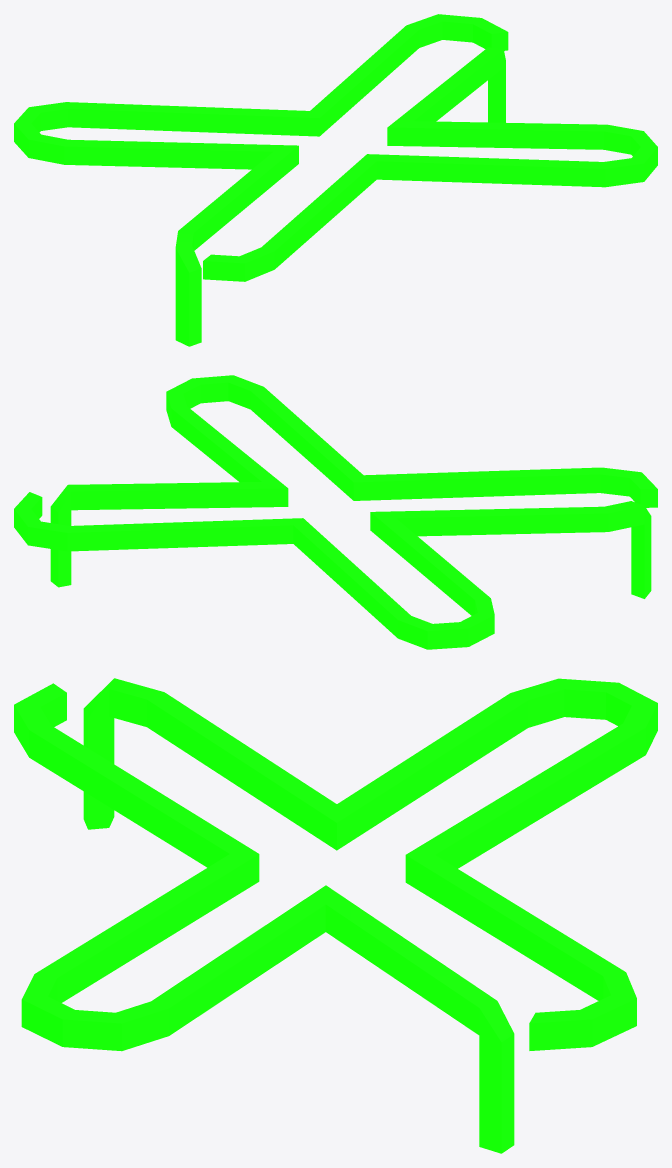
The model's file is Alphabet_3D_04_X.FBX.
The picture shows the model from 3 angles, top to bottom: view 1: azimuth 30°, elevation 25°; view 2: azimuth 150°, elevation 25°; view 3: azimuth 270°, elevation 25°; orthographic projection. The views are drawn at different scales.
Parts seen in each view (by area): view 1: Alphabet_3D_04_X; view 2: Alphabet_3D_04_X; view 3: Alphabet_3D_04_X.
Part boxes in pixels (box(x1,y1,x2,y2)): Alphabet_3D_04_X: box(14, 14, 657, 346); Alphabet_3D_04_X: box(14, 375, 657, 649); Alphabet_3D_04_X: box(14, 678, 657, 1153).
Size of the model in its own units: 67.36 by 12.63 by 53.07.
